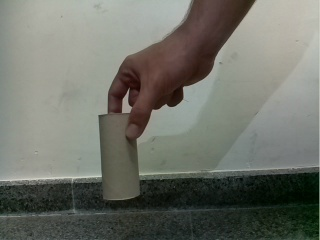rollo papel: (97, 114, 141, 200)
